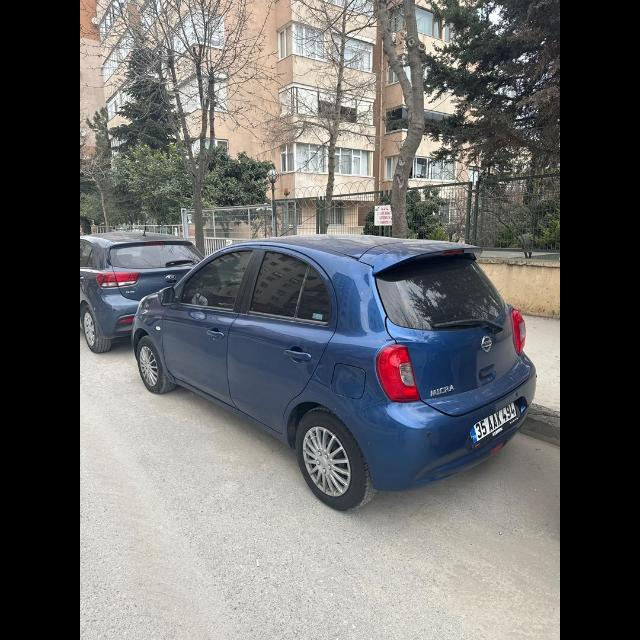Plaka: (472, 401, 522, 444)
